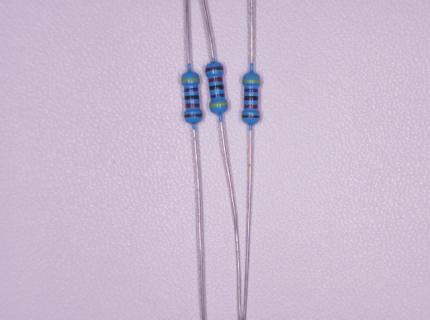Black band: (209, 84, 224, 91), (184, 95, 200, 101), (244, 96, 258, 101)
Brown band: (205, 66, 224, 72), (184, 114, 203, 118), (242, 115, 260, 119)
Red band: (209, 77, 223, 83), (185, 103, 200, 108), (244, 104, 258, 109)
Violet band: (210, 93, 224, 99), (183, 87, 199, 92), (244, 88, 259, 93)
Yellow band: (210, 102, 228, 107), (181, 78, 200, 82), (243, 79, 261, 83)
